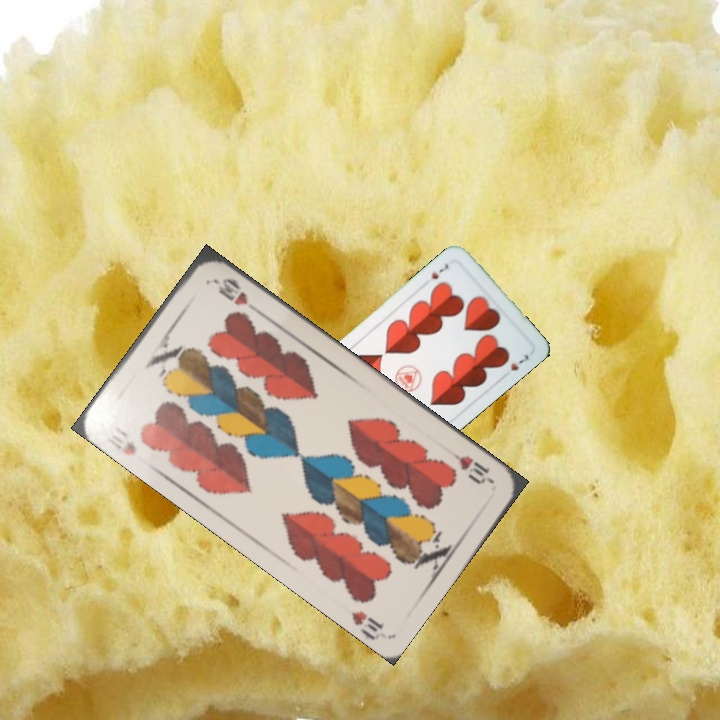H10: (444, 446, 496, 487), (110, 423, 139, 458)
H7: (427, 259, 451, 282)
